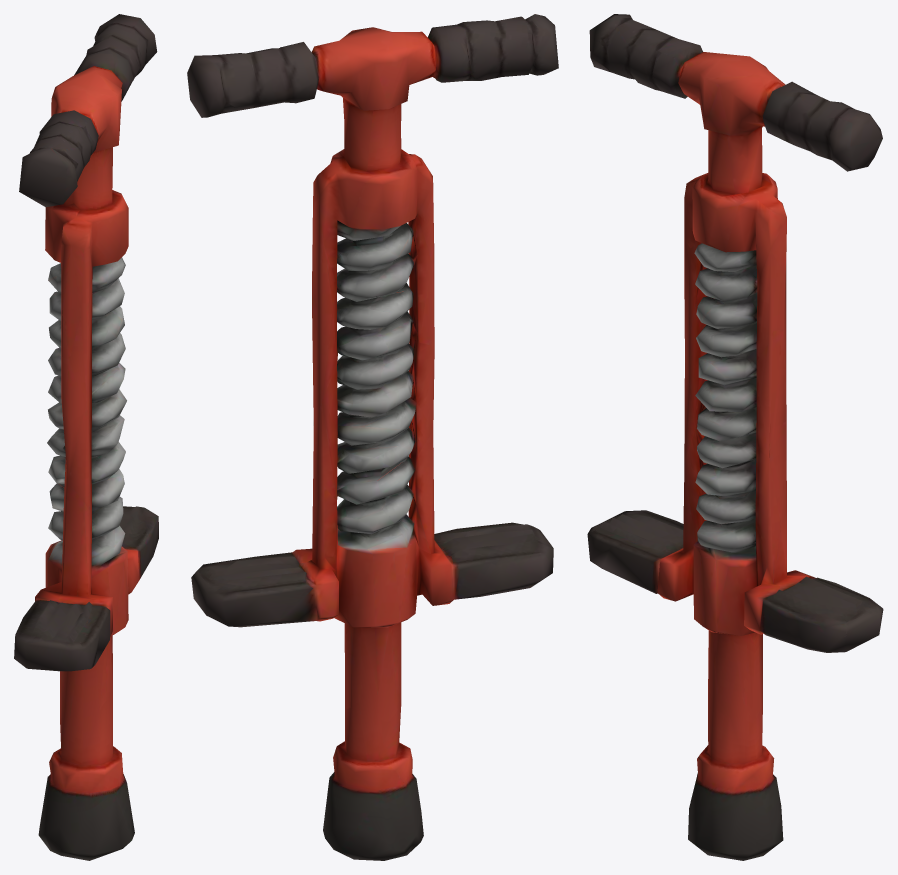
The model's file is toy-pogo.glb.
3 renders of one model, left to right at view 1: azimuth 30°, elevation 25°; view 2: azimuth 150°, elevation 25°; view 3: azimuth 270°, elevation 25°, orthographic. The views are drawn at different scales.
Visible parts, largest first — view 1: tripo_node_4882bc52-2210-4258-a824-1042654b6e1d; view 2: tripo_node_4882bc52-2210-4258-a824-1042654b6e1d; view 3: tripo_node_4882bc52-2210-4258-a824-1042654b6e1d.
Boxes of the visible parts, box(x1,y1,x2,y2) form: tripo_node_4882bc52-2210-4258-a824-1042654b6e1d: box(14, 14, 158, 860); tripo_node_4882bc52-2210-4258-a824-1042654b6e1d: box(187, 14, 558, 860); tripo_node_4882bc52-2210-4258-a824-1042654b6e1d: box(587, 14, 883, 860).
Bounding box in the file's own units: 0.3298 × 1 × 0.3435.
Materials: 1 (1 with a texture image).
